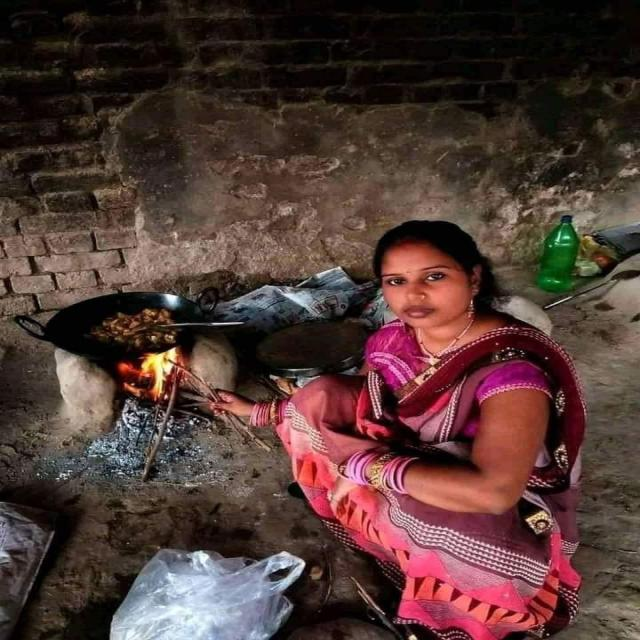fire: (139, 347, 178, 400)
